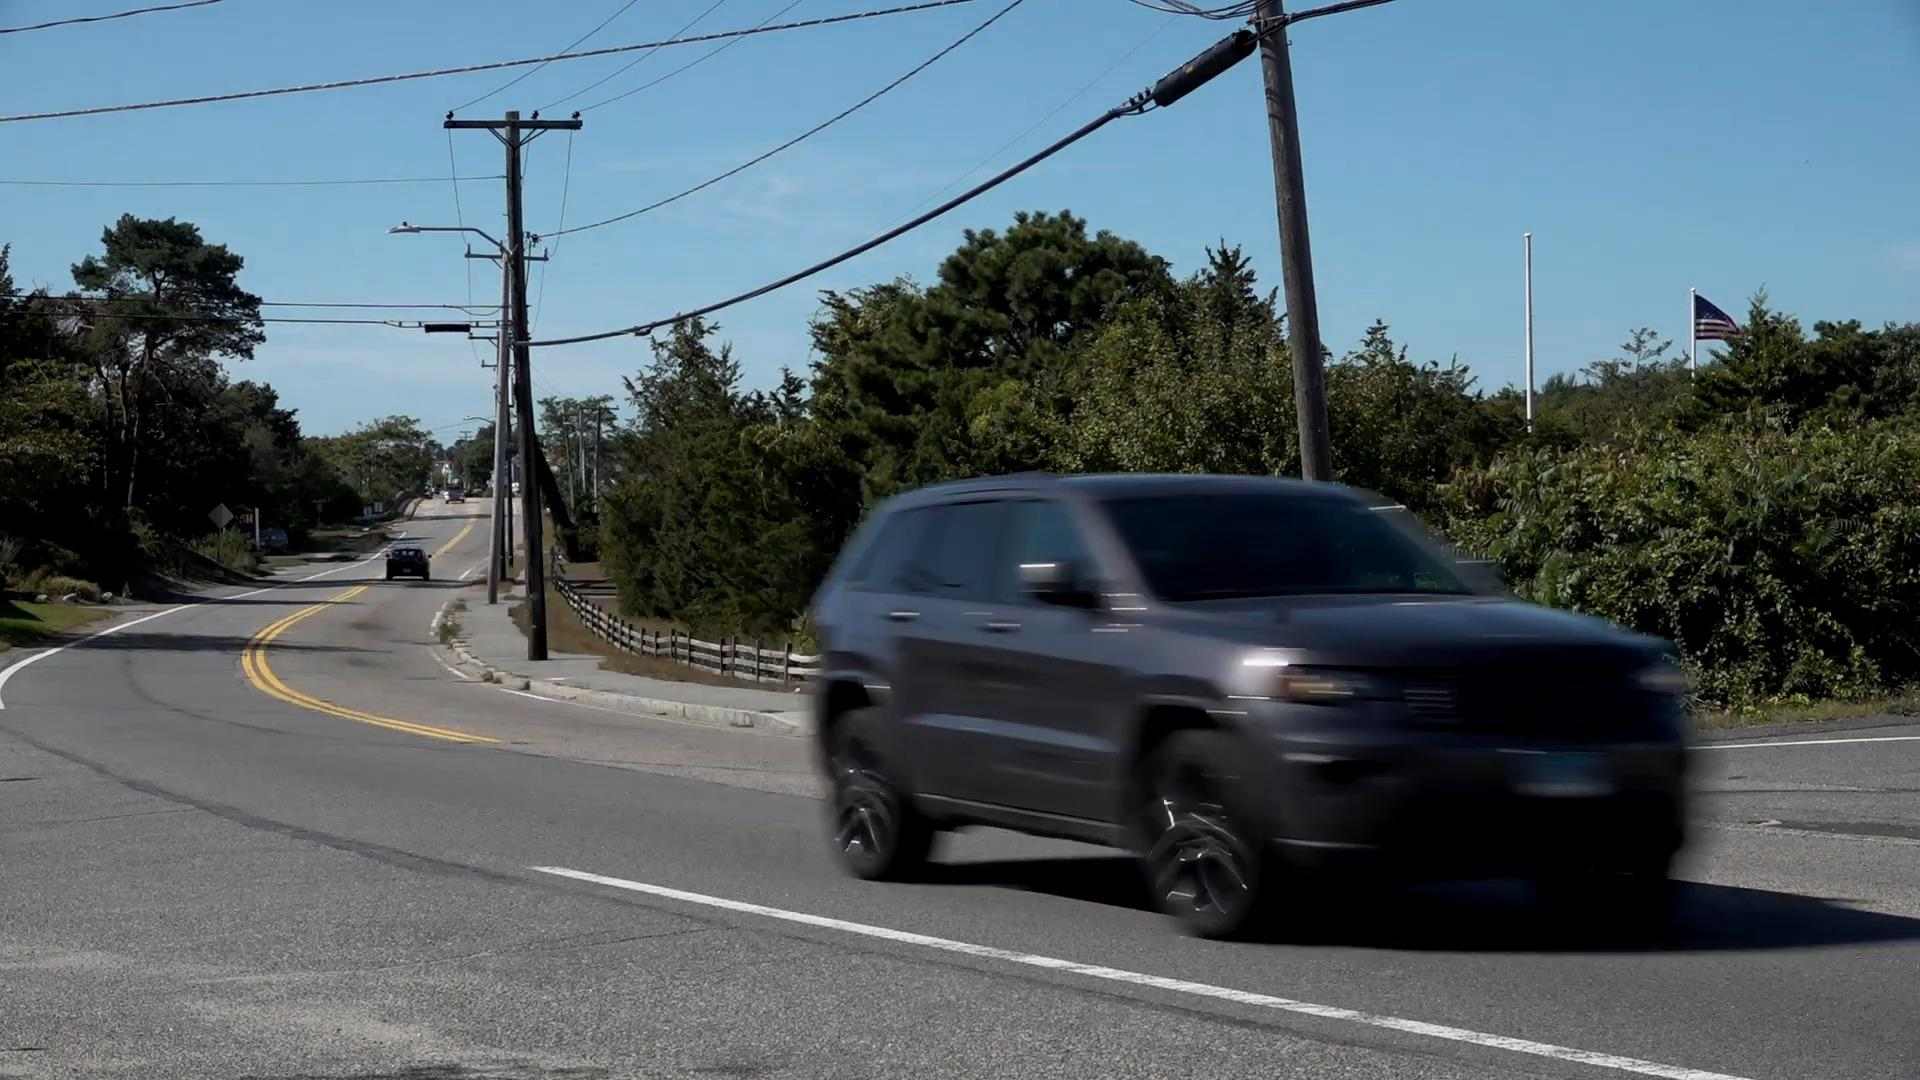suv: (810, 473, 1701, 932)
